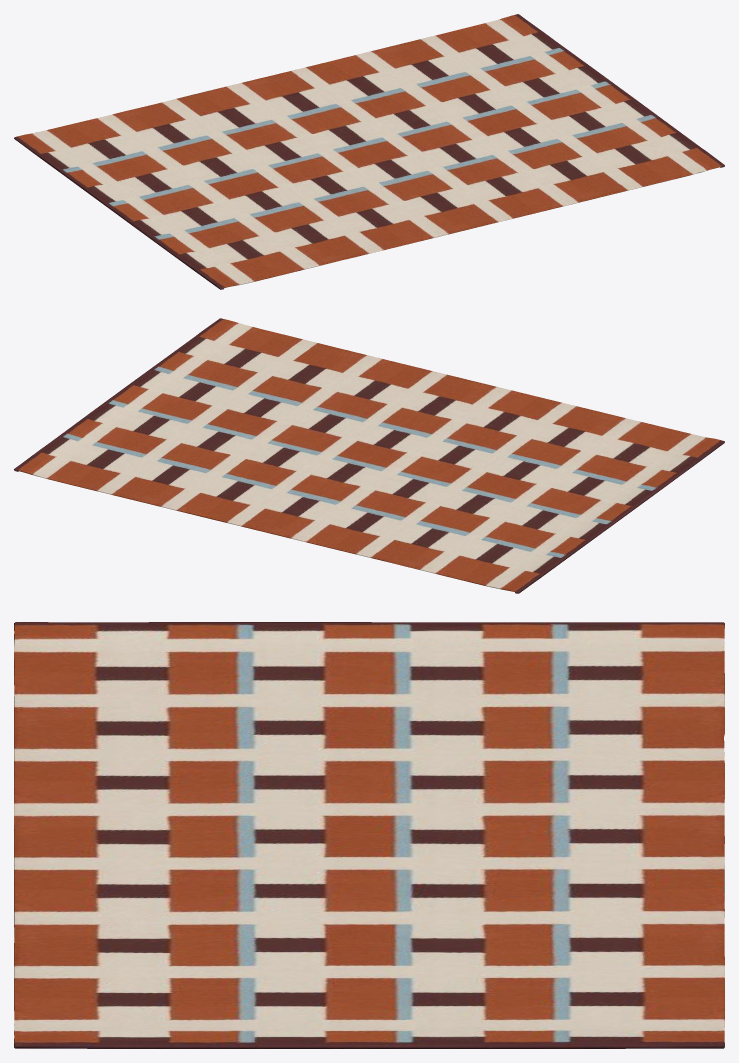
Rendered from 08 - STOCKHOLM 2025 Rug, flatwoven - whitebrownlight blue handwoven 170x240 cm.glb.
The picture shows the model from 3 angles, top to bottom: view 1: azimuth 30°, elevation 25°; view 2: azimuth 150°, elevation 25°; view 3: azimuth 270°, elevation 25°; orthographic projection. The views are drawn at different scales.
Visible parts, largest first — view 1: ASY_ART_40593815_S01_NV01; view 2: ASY_ART_40593815_S01_NV01; view 3: ASY_ART_40593815_S01_NV01.
Part boxes in pixels (x1=…): ASY_ART_40593815_S01_NV01: x1=14, y1=14, x2=724, y2=289; ASY_ART_40593815_S01_NV01: x1=14, y1=318, x2=724, y2=593; ASY_ART_40593815_S01_NV01: x1=14, y1=622, x2=724, y2=1048.
Bounding box in the file's own units: 2.4 × 0.0108 × 1.7.
Materials: 1 (1 with a texture image).
